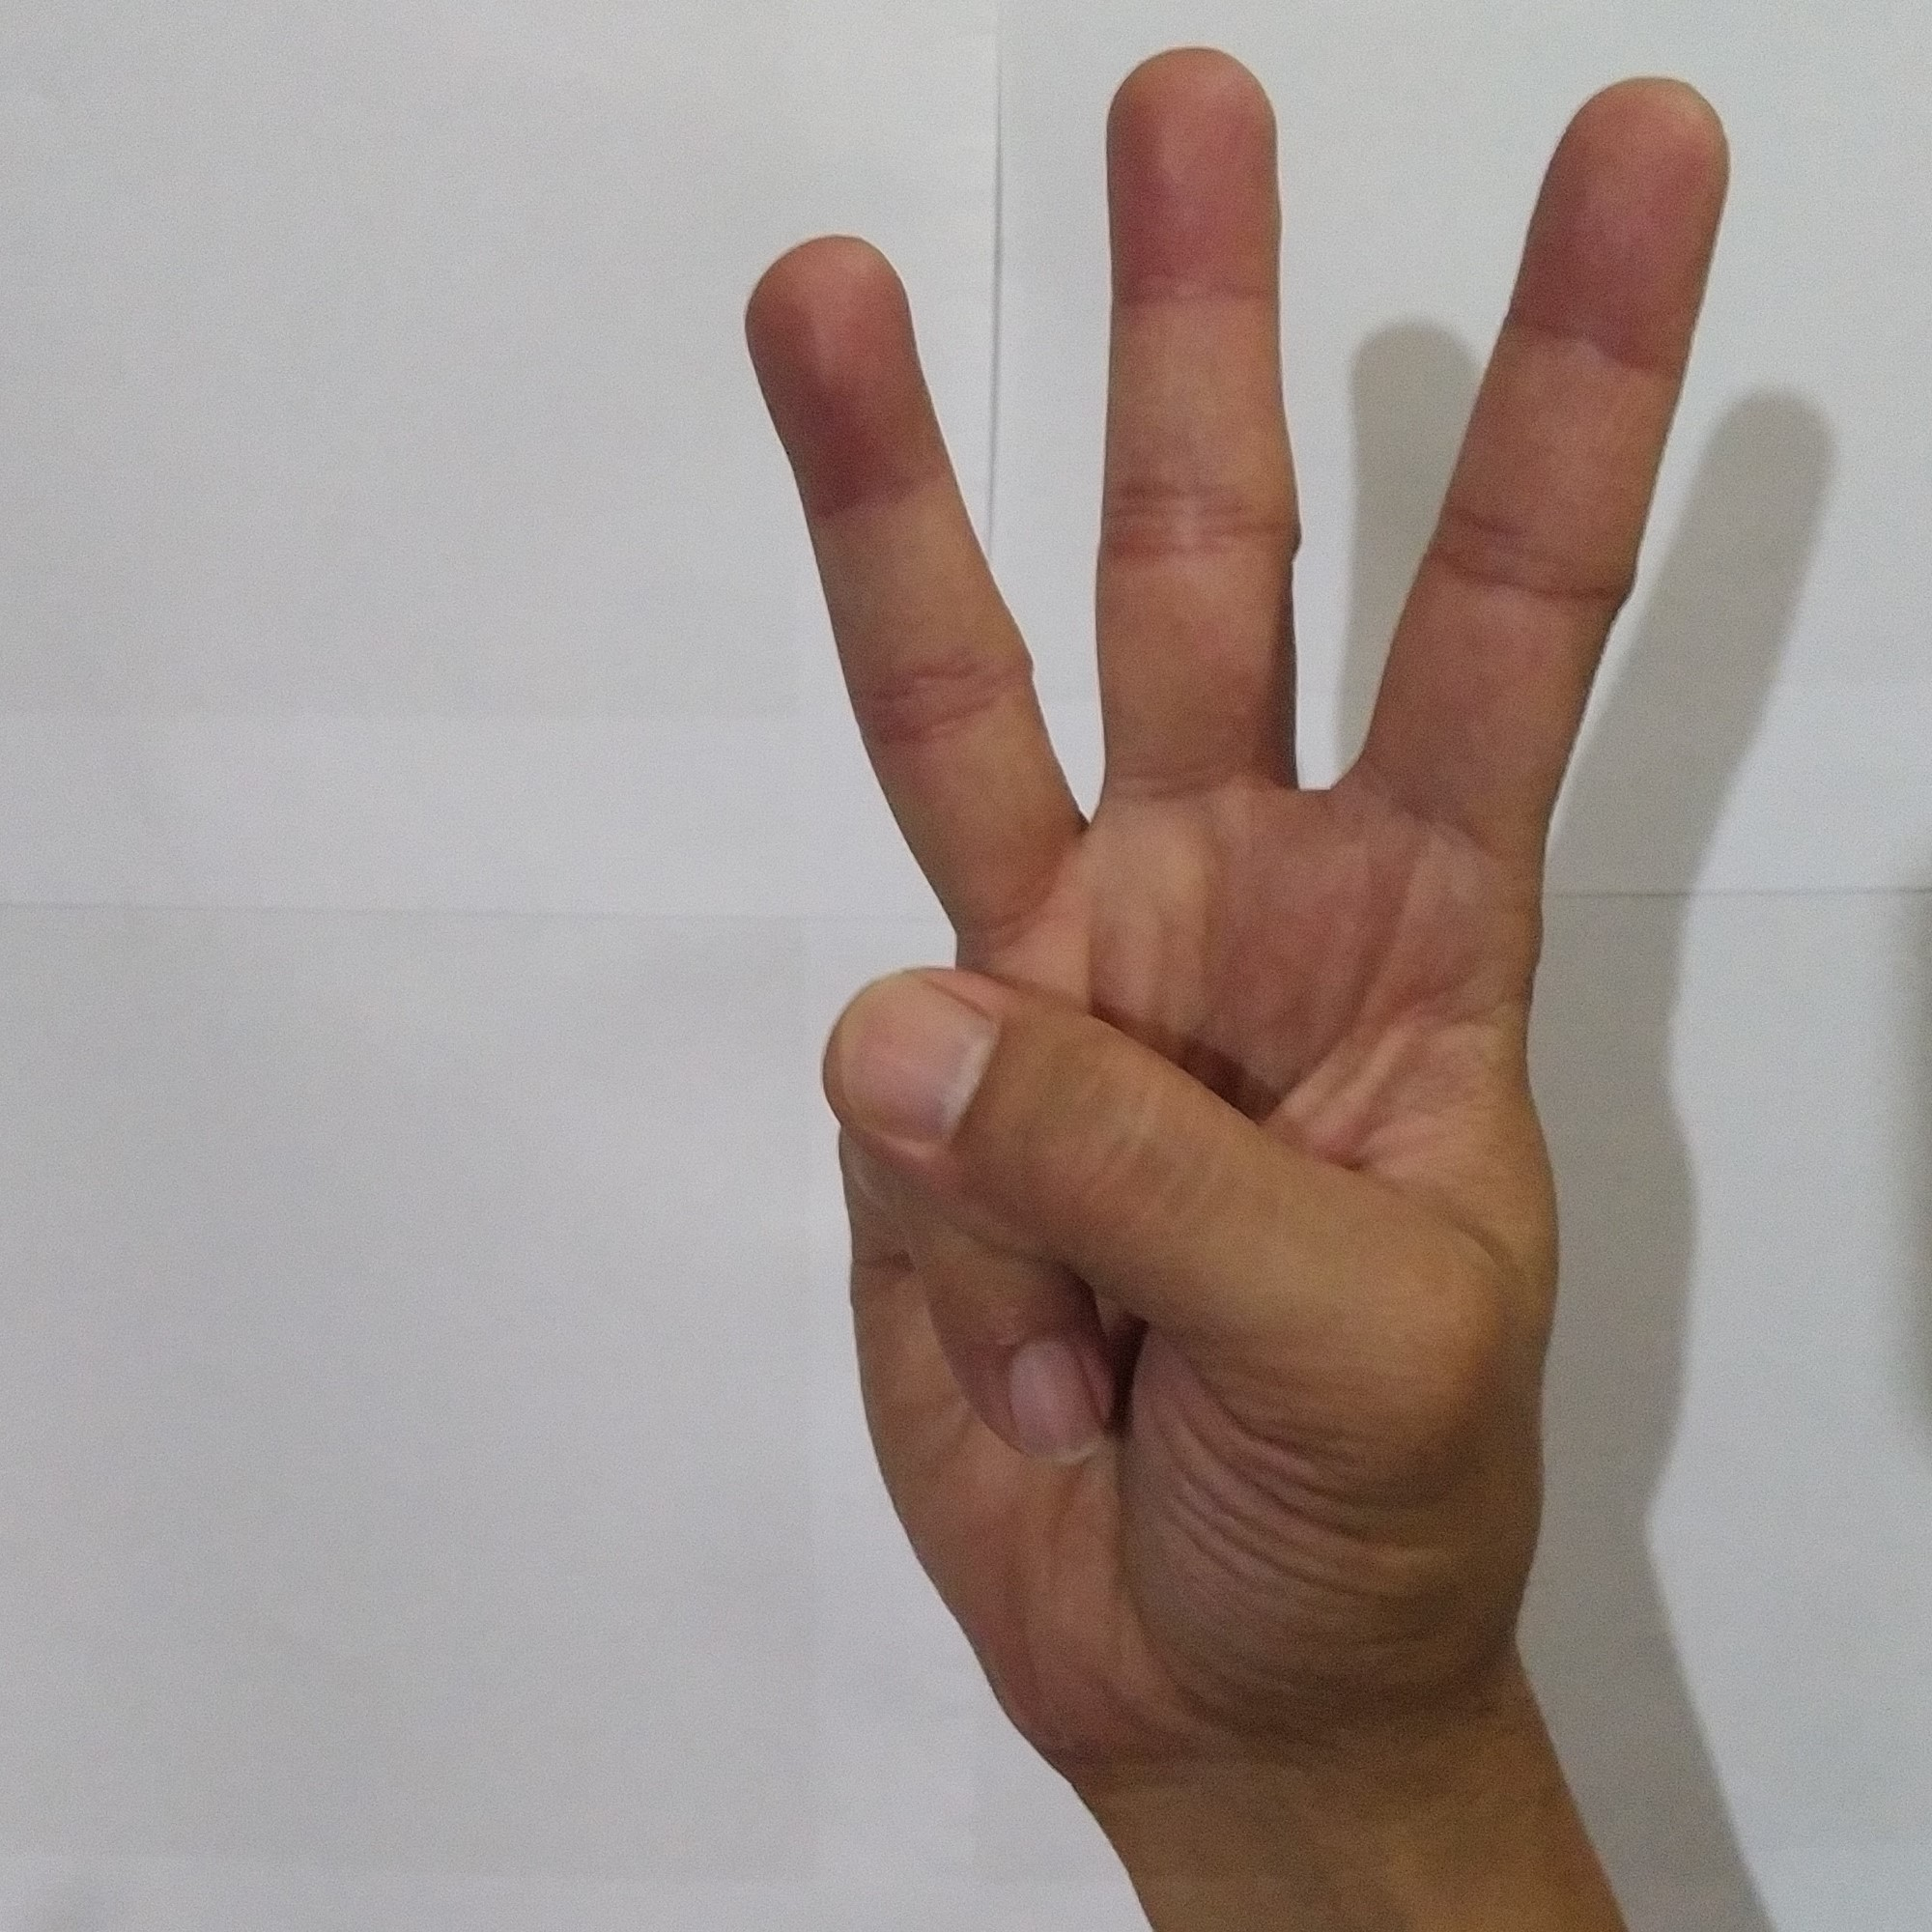W: (706, 25, 1755, 1741)
